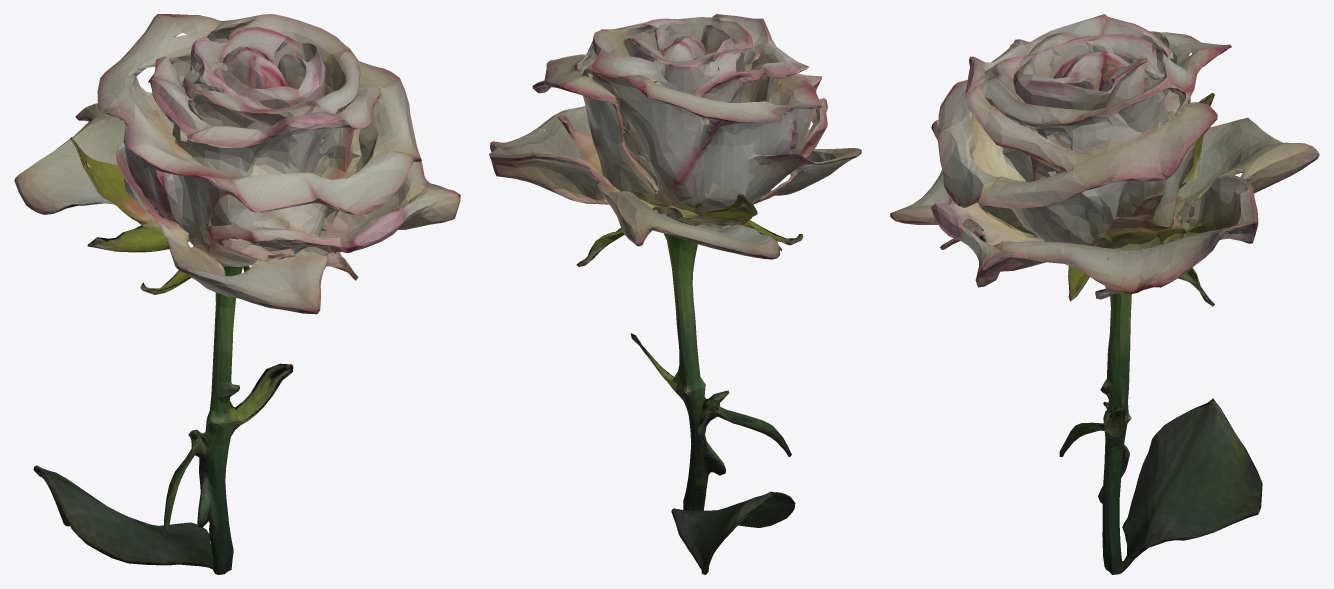
The picture shows the model from 3 angles, left to right: view 1: azimuth 30°, elevation 25°; view 2: azimuth 150°, elevation 25°; view 3: azimuth 270°, elevation 25°; orthographic projection. The views are drawn at different scales.
Parts seen in each view (by area): view 1: world; view 2: world; view 3: world.
Part boxes in pixels (x1=…): world: x1=14, y1=14, x2=460, y2=574; world: x1=489, y1=14, x2=861, y2=574; world: x1=890, y1=14, x2=1319, y2=574.
Bounding box in the file's own units: 0.6184 × 0.8909 × 0.6529.
1 material, 1 textured.
